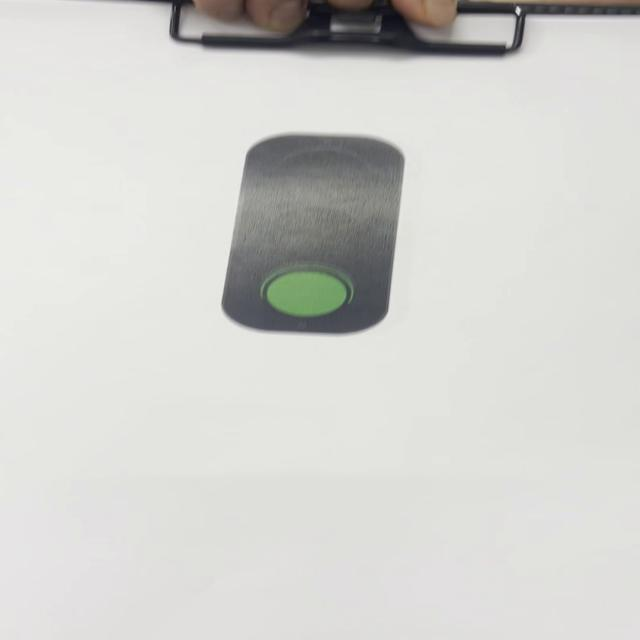green: (232, 136, 392, 338)
